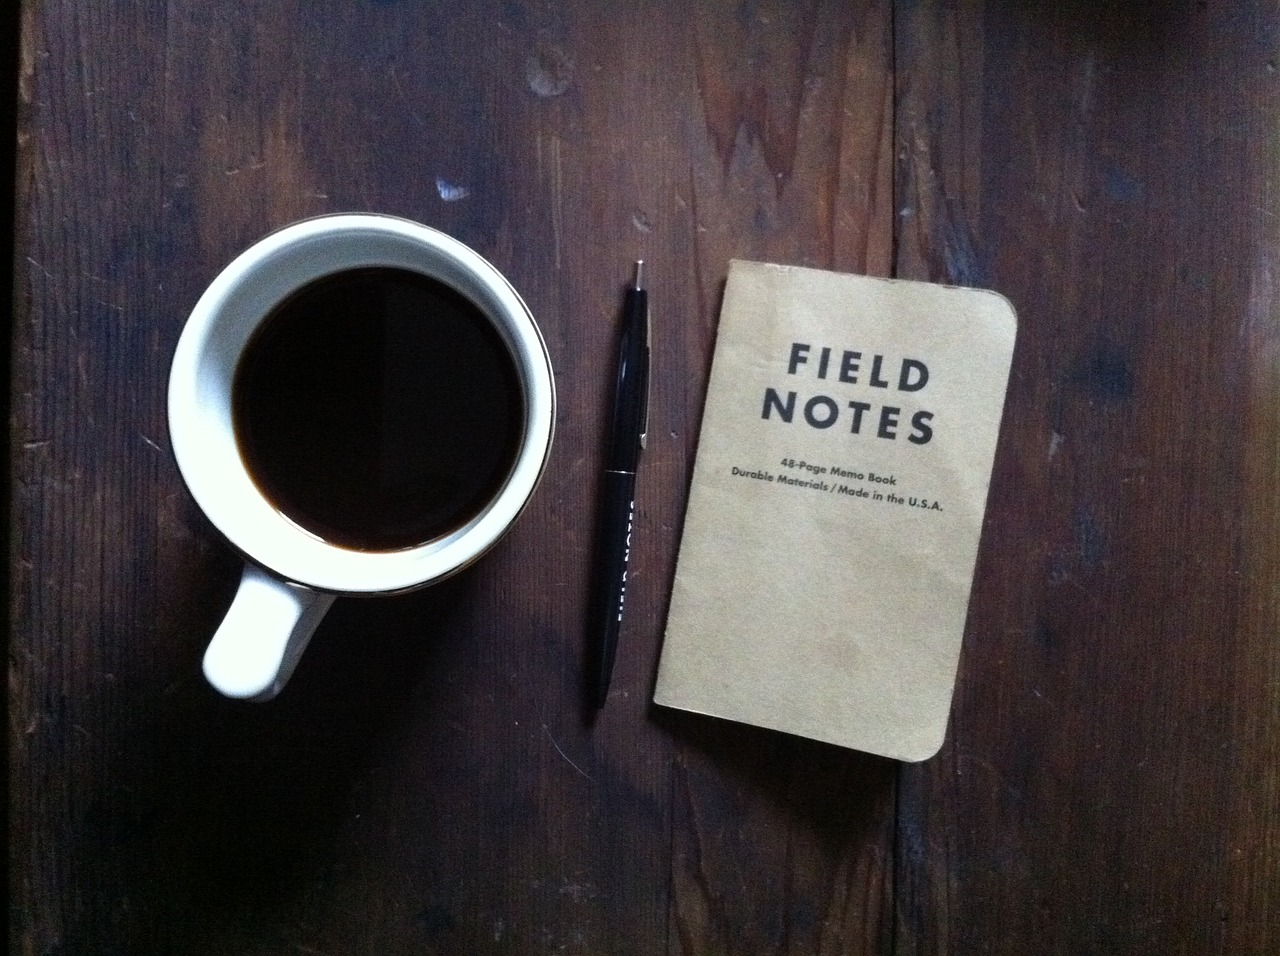mug: (124, 202, 565, 731)
